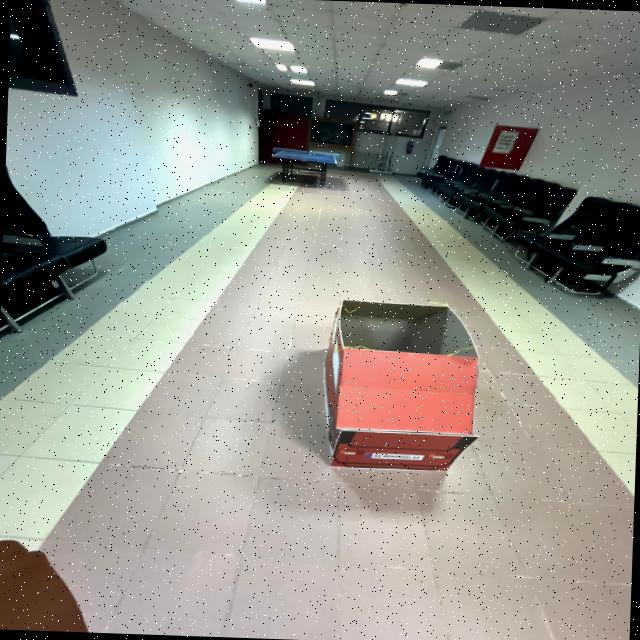red_car: (296, 286, 502, 493)
